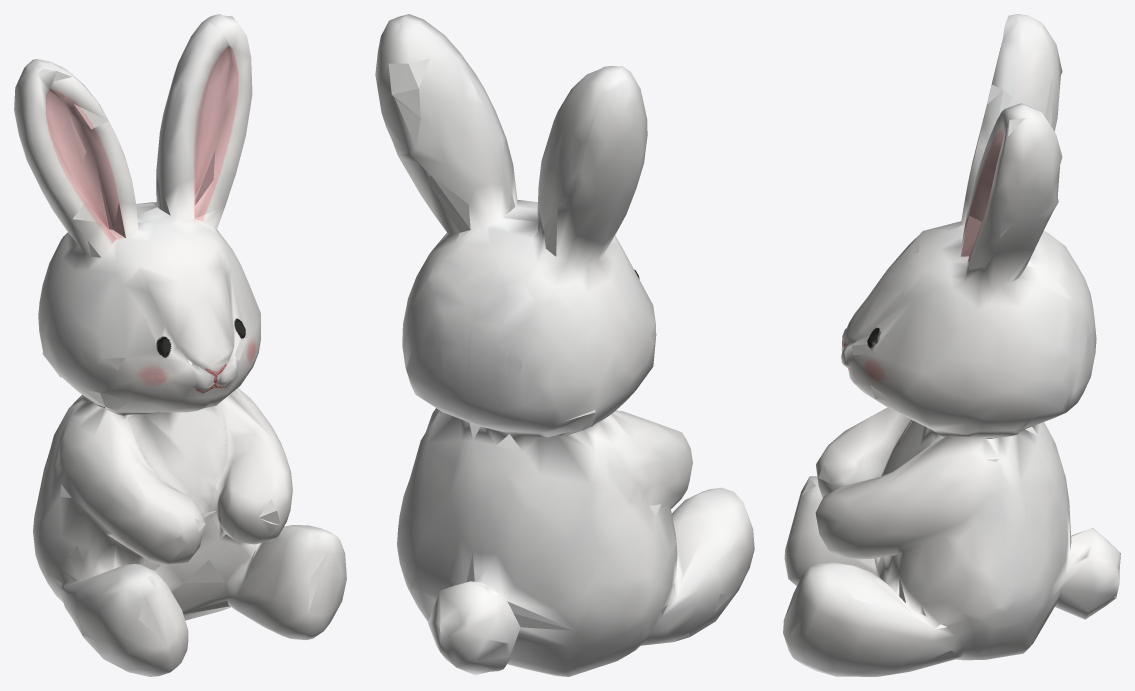
The model's file is PelucheLapin.fbx.
The picture shows the model from 3 angles, left to right: view 1: azimuth 30°, elevation 25°; view 2: azimuth 150°, elevation 25°; view 3: azimuth 270°, elevation 25°; orthographic projection. The views are drawn at different scales.
Visible parts, largest first — view 1: Mesh_0; view 2: Mesh_0; view 3: Mesh_0.
Boxes of the visible parts, x1,y1,x2,y2 form: Mesh_0: (14, 14, 346, 676); Mesh_0: (375, 14, 754, 676); Mesh_0: (783, 14, 1120, 676).
Bounding box in the file's own units: 88.17 × 190 × 101.
1 material, 1 textured.
